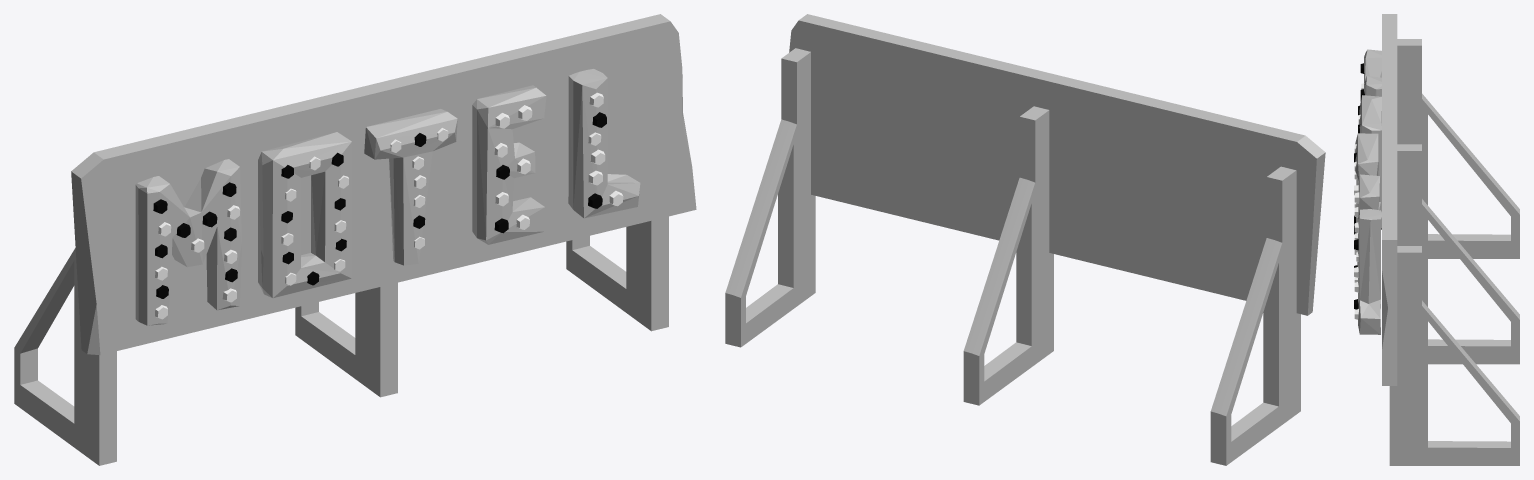
Rendered from SM_Bld_Background_.fbx.
The picture shows the model from 3 angles, left to right: view 1: azimuth 30°, elevation 25°; view 2: azimuth 150°, elevation 25°; view 3: azimuth 270°, elevation 25°; orthographic projection. The views are drawn at different scales.
Parts seen in each view (by area): view 1: SM_Bld_Sign_Background_01; view 2: SM_Bld_Sign_Background_01; view 3: SM_Bld_Sign_Background_01.
Part boxes in pixels (x1,y1,x2,y2): SM_Bld_Sign_Background_01: [14, 14, 696, 465]; SM_Bld_Sign_Background_01: [725, 14, 1325, 465]; SM_Bld_Sign_Background_01: [1354, 14, 1519, 465].
Bounding box in the file's own units: 554 × 267 × 168.
